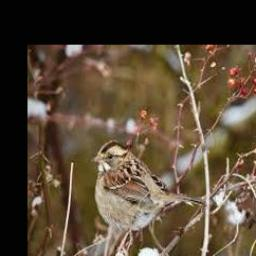Sparrow: (90, 141, 205, 244)
